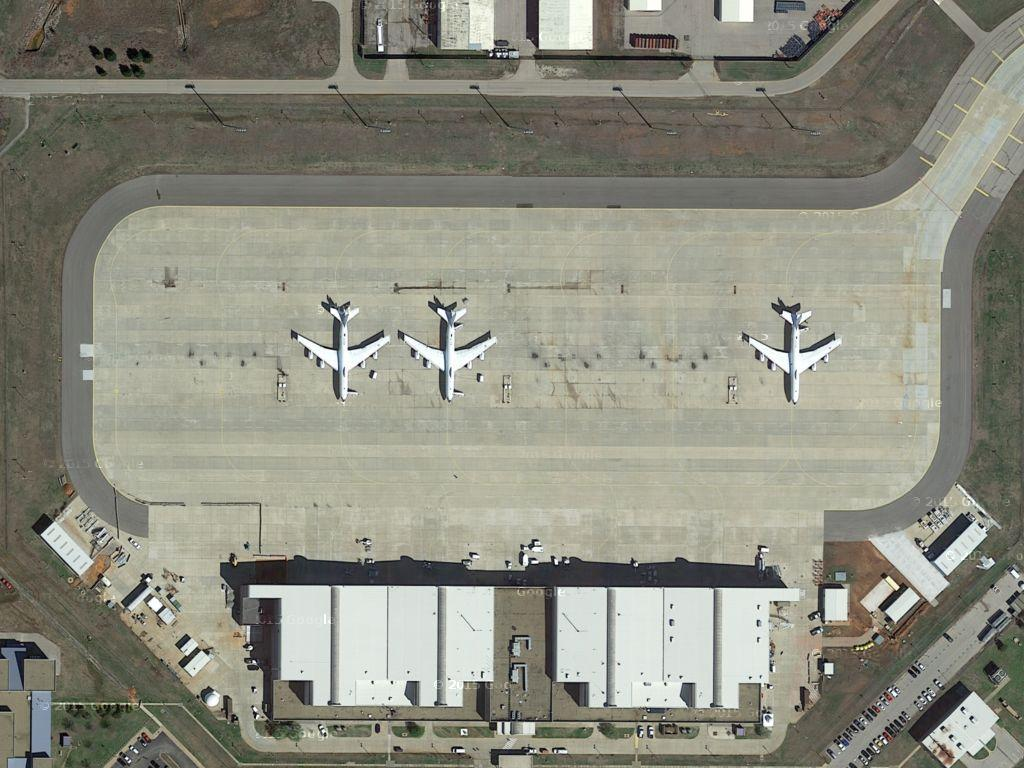E-8: (740, 299, 848, 406), (395, 299, 503, 404), (293, 294, 396, 401)
